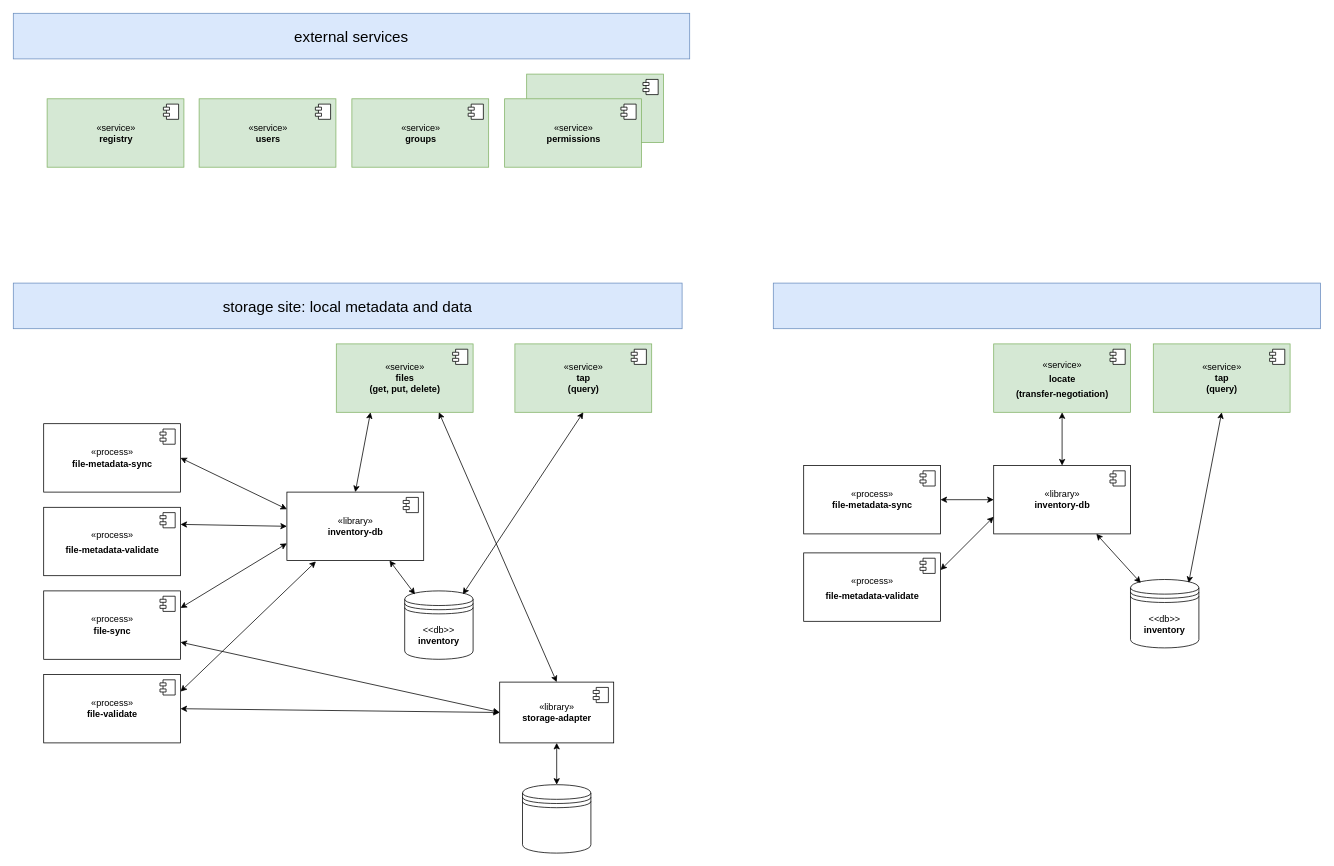
Some shapes in this 1334 by 866 pixel diagram are drawn without their labels. Each missing label, with the box of its shape:
<<storage>>: (522, 784, 591, 853)
global inventory: metadata: (773, 282, 1320, 329)
